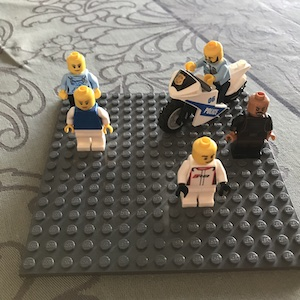Lego: (177, 138, 225, 211), (63, 84, 113, 154), (224, 92, 274, 158), (192, 38, 233, 110), (59, 50, 99, 115)
